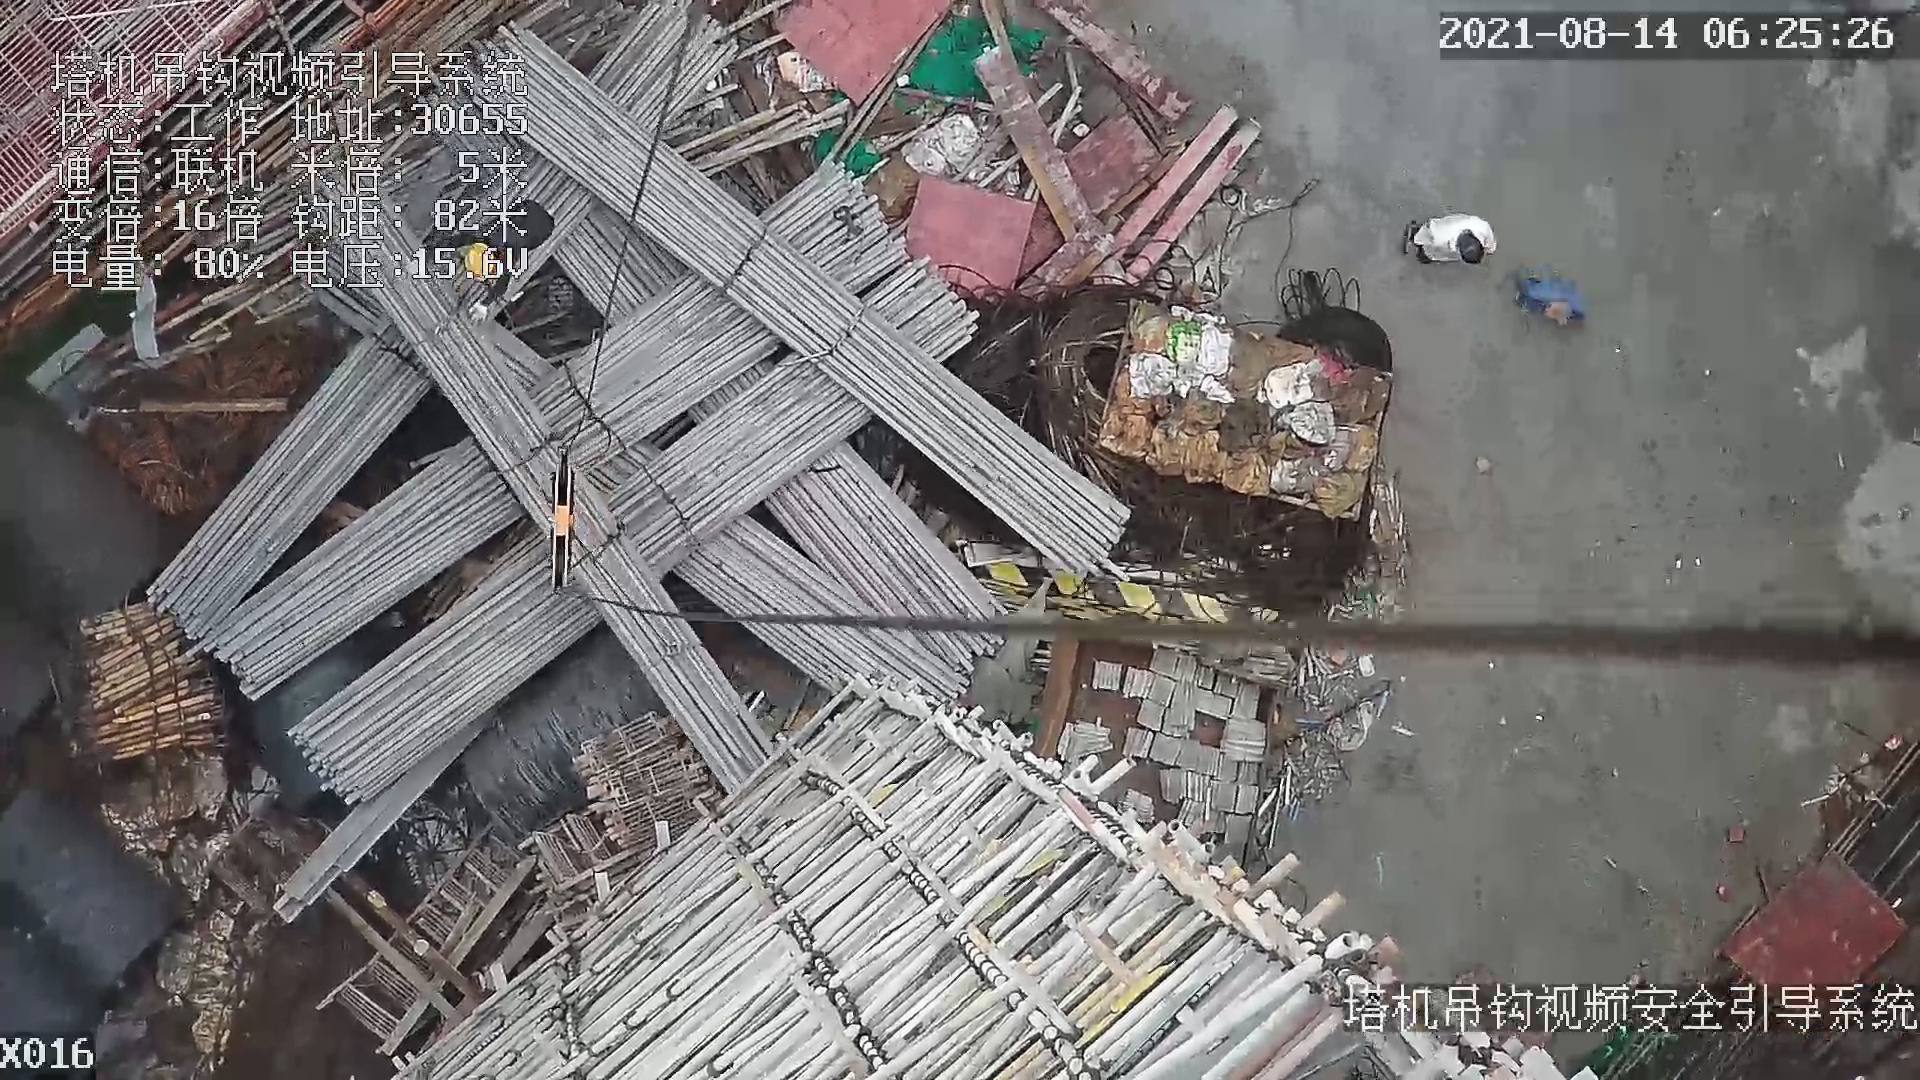helmet: (463, 244, 497, 284)
hook: (540, 447, 582, 595)
person: (426, 200, 569, 315), (1513, 267, 1594, 341), (1400, 212, 1504, 267)
